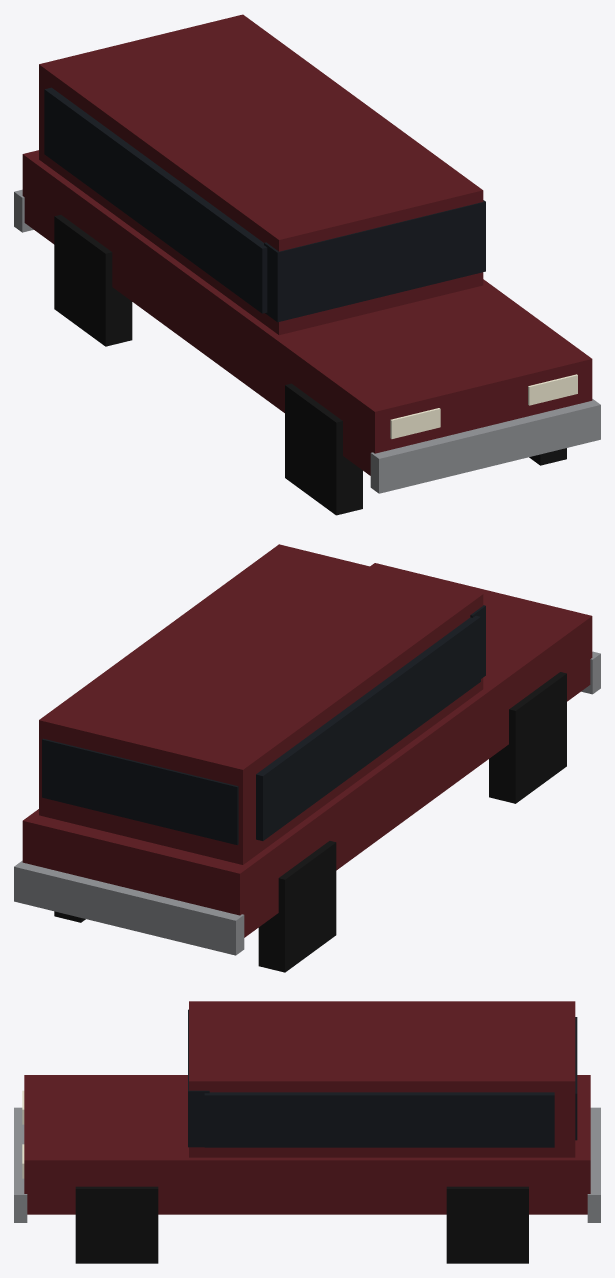
File: suv_maroon.dae
The picture shows the model from 3 angles, top to bottom: view 1: azimuth 30°, elevation 25°; view 2: azimuth 150°, elevation 25°; view 3: azimuth 270°, elevation 25°; orthographic projection. The views are drawn at different scales.
Parts seen in each view (by area): view 1: marker; view 2: marker; view 3: marker.
Boxes of the visible parts, left/top/right/bottom form: marker: left=14, top=14, right=600, bottom=515; marker: left=14, top=544, right=600, bottom=972; marker: left=14, top=1001, right=600, bottom=1263.
Size of the model in its own units: 2.08 by 5.7 by 1.9.
